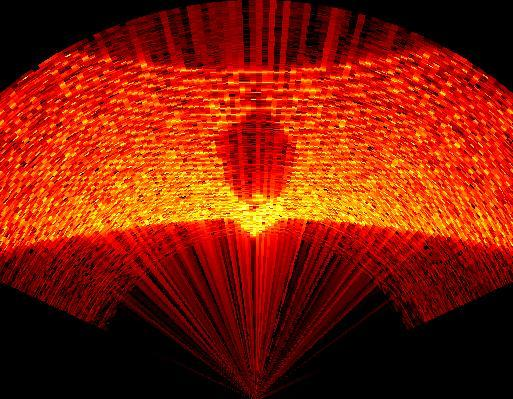box_crate: (218, 110, 295, 208)
